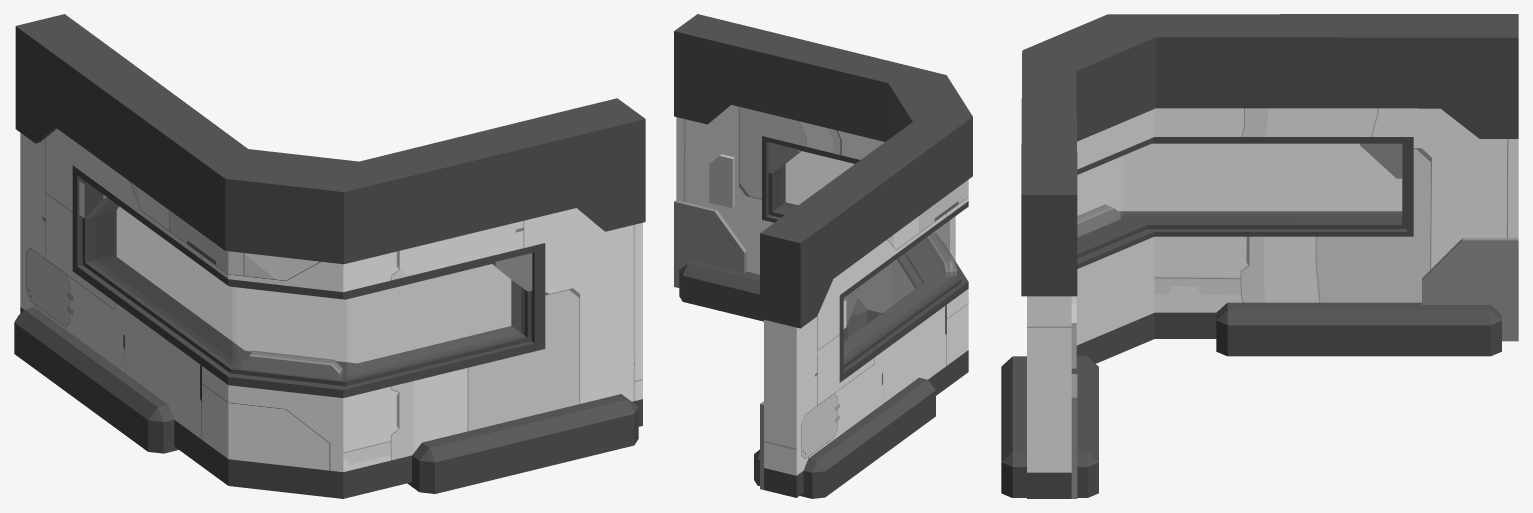
Rendered from SM_Wall_4x3_Corner_Window_1.fbx.
3 renders of one model, left to right at view 1: azimuth 30°, elevation 25°; view 2: azimuth 150°, elevation 25°; view 3: azimuth 270°, elevation 25°, orthographic. The views are drawn at different scales.
Visible parts, largest first — view 1: SM_Wall_4x3_Corner_Window_A; view 2: SM_Wall_4x3_Corner_Window_A; view 3: SM_Wall_4x3_Corner_Window_A.
Part boxes in pixels (x1,y1,x2,y2): SM_Wall_4x3_Corner_Window_A: (14, 14, 645, 498); SM_Wall_4x3_Corner_Window_A: (674, 14, 972, 498); SM_Wall_4x3_Corner_Window_A: (1001, 14, 1518, 498).
Bounding box in the file's own units: 399 × 305 × 463.
